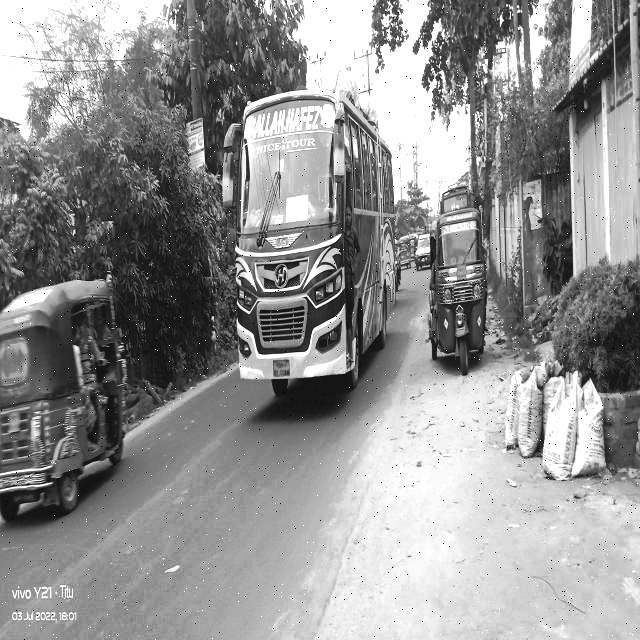Bus: (221, 58, 410, 402)
